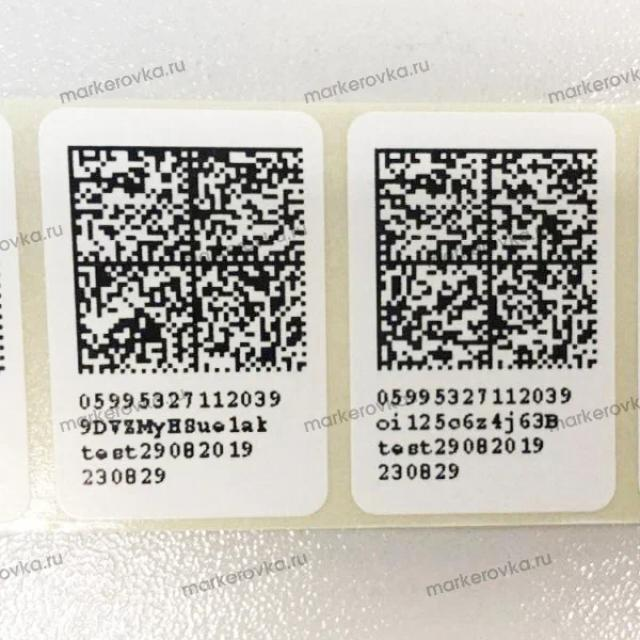datamatrix: (67, 144, 312, 379), (373, 145, 605, 377)
